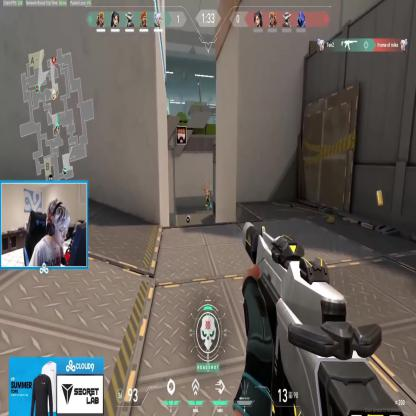enemy: (206, 190, 210, 207)
enemy_head: (207, 190, 209, 193)
